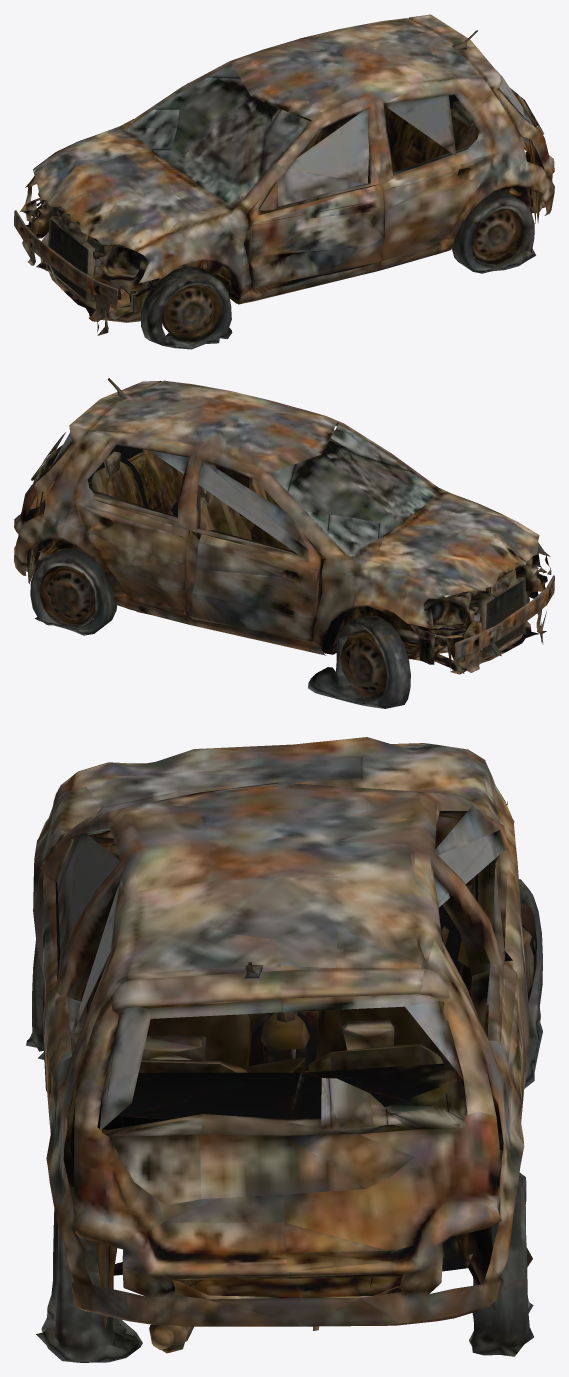
File: car.glb
3 views of the same model, one above another, from view 1: azimuth 30°, elevation 25°; view 2: azimuth 150°, elevation 25°; view 3: azimuth 270°, elevation 25° (orthographic). The views are drawn at different scales.
Parts seen in each view (by area): view 1: geometry_0; view 2: geometry_0; view 3: geometry_0.
Part boxes in pixels (x1=…): geometry_0: x1=14, y1=14, x2=554, y2=349; geometry_0: x1=14, y1=378, x2=554, y2=708; geometry_0: x1=26, y1=737, x2=542, y2=1362.
Size of the model in its own units: 0.9536 by 0.3828 by 0.4551.
Materials: 1 (1 with a texture image).
